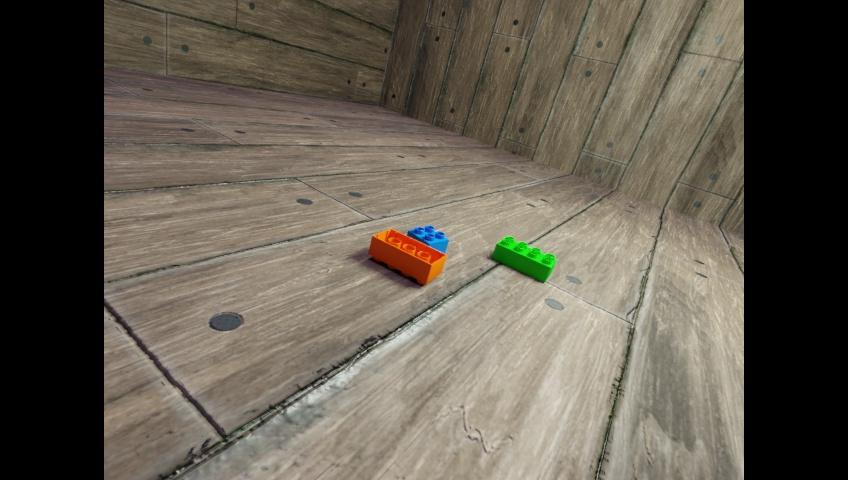2x2_blue: (406, 224, 448, 254)
4x2_green: (491, 235, 556, 282)
4x2_orange: (368, 228, 446, 284)
